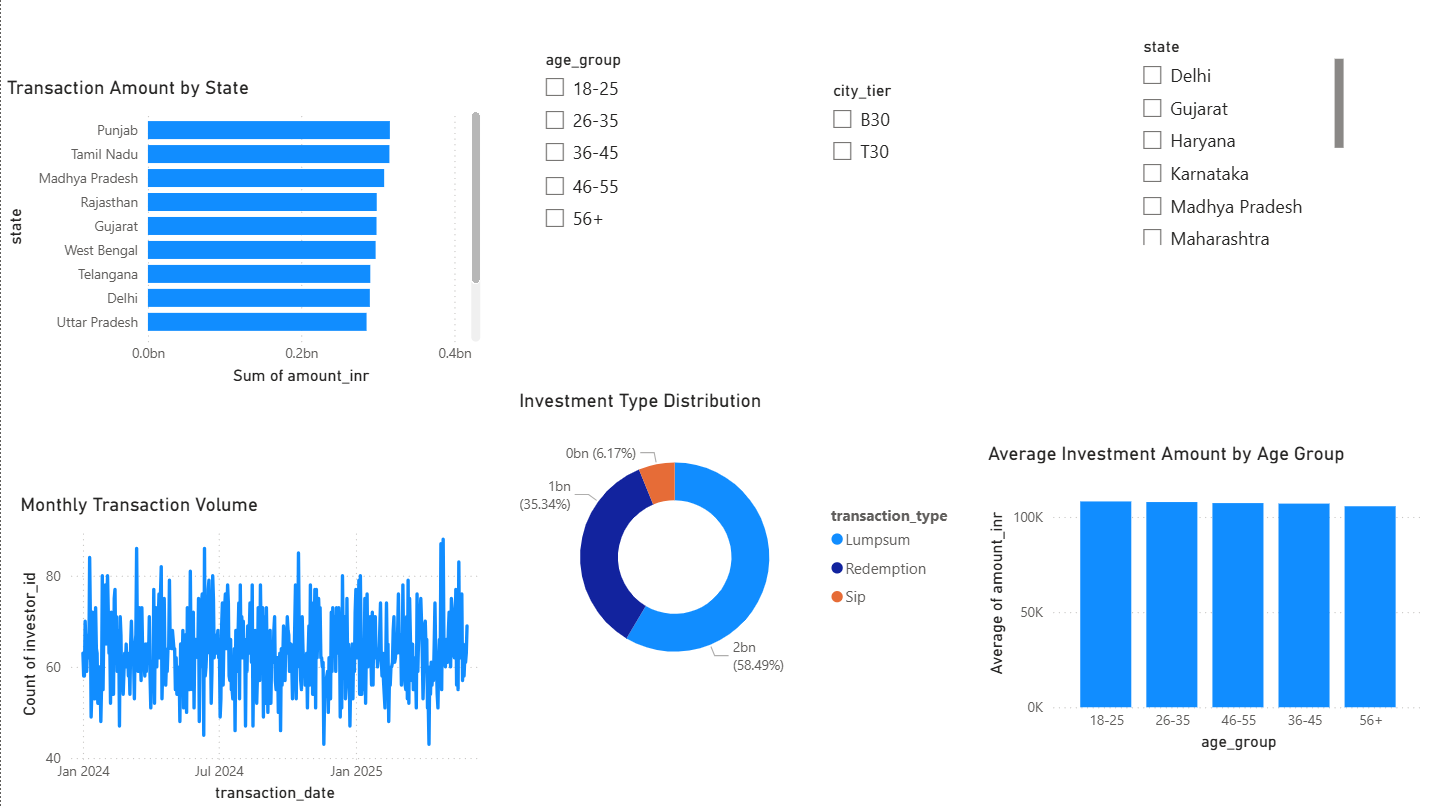

The page's visual inventory and layout, read from the dashboard file:
{"tool":"powerbi","page":{"name":"Investor Analytics","canvas":[1280,720],"ordinal":2},"visuals":[{"type":"clusteredBarChart","title":"Transaction Amount by State","fields":{"Y":["Sum(08_investor_transactions_cleaned.amount_inr)"],"Category":["08_investor_transactions_cleaned.state"]},"box":[0,68.4,431.2,279.6],"z":0},{"type":"donutChart","title":"Investment Type Distribution","fields":{"Category":["08_investor_transactions_cleaned.transaction_type"],"Y":["Sum(08_investor_transactions_cleaned.amount_inr)"]},"box":[455,348,405.9,279.6],"z":1000},{"type":"clusteredColumnChart","title":"Average Investment Amount by Age Group","fields":{"Category":["08_investor_transactions_cleaned.age_group"],"Y":["Avg(08_investor_transactions_cleaned.amount_inr)"]},"box":[872.2,394.4,397.8,280],"z":2000},{"type":"lineChart","title":"Monthly Transaction Volume","fields":{"Category":["08_investor_transactions_cleaned.transaction_date"],"Y":["CountNonNull(08_investor_transactions_cleaned.investor_id)"]},"box":[11.9,440.2,431.2,279.6],"z":3000},{"type":"slicer","fields":{"Values":["08_investor_transactions_cleaned.age_group"]},"box":[471.4,41.6,237.9,194.8],"z":4000},{"type":"slicer","fields":{"Values":["08_investor_transactions_cleaned.state"]},"box":[1002.2,29.7,196.3,194.8],"z":5000},{"type":"slicer","fields":{"Values":["08_investor_transactions_cleaned.city_tier"]},"box":[727.1,68.4,237.9,116],"z":6000}]}

Visuals, with their boxes in screenshot pixels (x1, y1, x2, y2), scaled from the page's 1280x720 canvas onto the 1439x808 screenshot:
"Transaction Amount by State" clusteredBarChart: locate(0, 77, 485, 391)
"Investment Type Distribution" donutChart: locate(512, 391, 968, 704)
"Average Investment Amount by Age Group" clusteredColumnChart: locate(981, 443, 1428, 757)
"Monthly Transaction Volume" lineChart: locate(13, 494, 498, 807)
slicer - 08_investor_transactions_cleaned.age_group: locate(530, 47, 797, 265)
slicer - 08_investor_transactions_cleaned.state: locate(1127, 33, 1347, 252)
slicer - 08_investor_transactions_cleaned.city_tier: locate(817, 77, 1085, 207)
